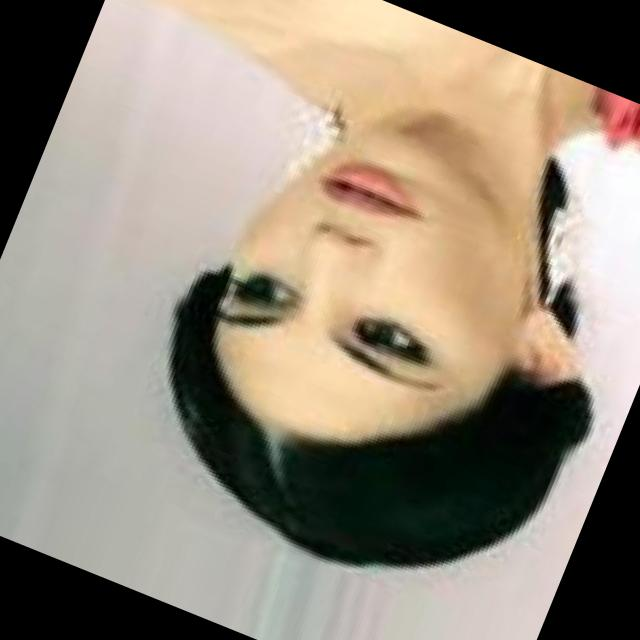bareface: (142, 92, 614, 582)
